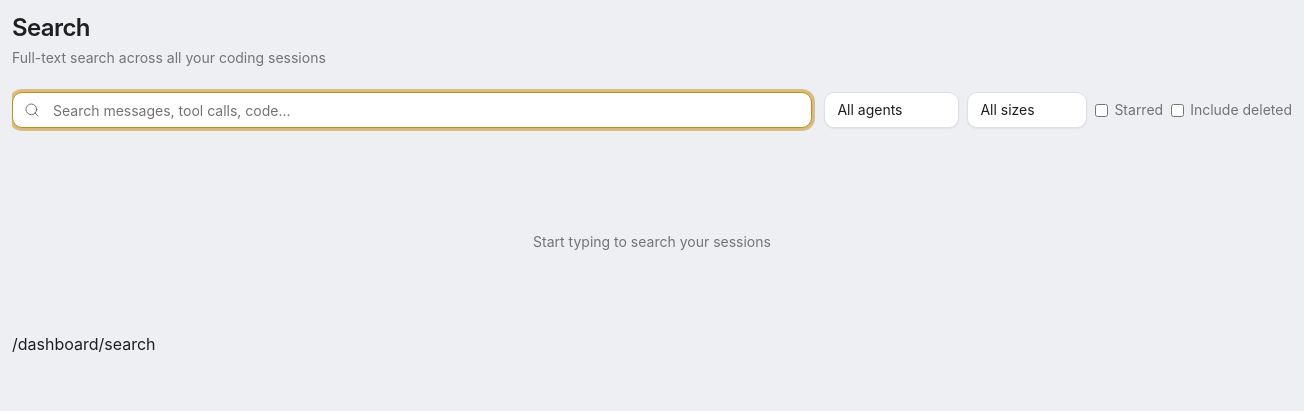
Test: SearchPage › renders 0 results message
Type "z" into the search field with test id "search-input" at coordinates (412, 110), box [12,92,812,128]
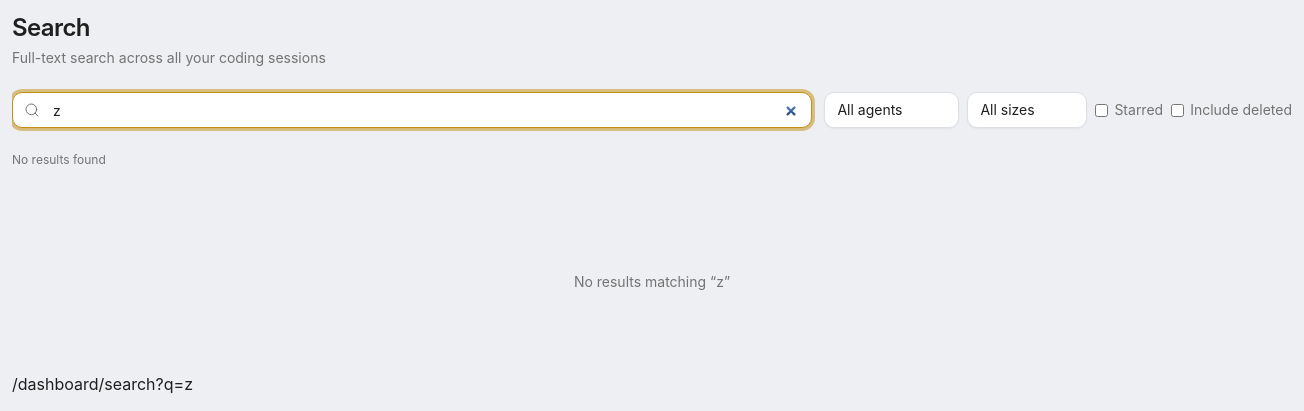
Expected: the text "No results matching “z”" is shown, [574,273,730,290]
Expected: the text with test id "search-status" shows "No results", [12,152,106,167]
